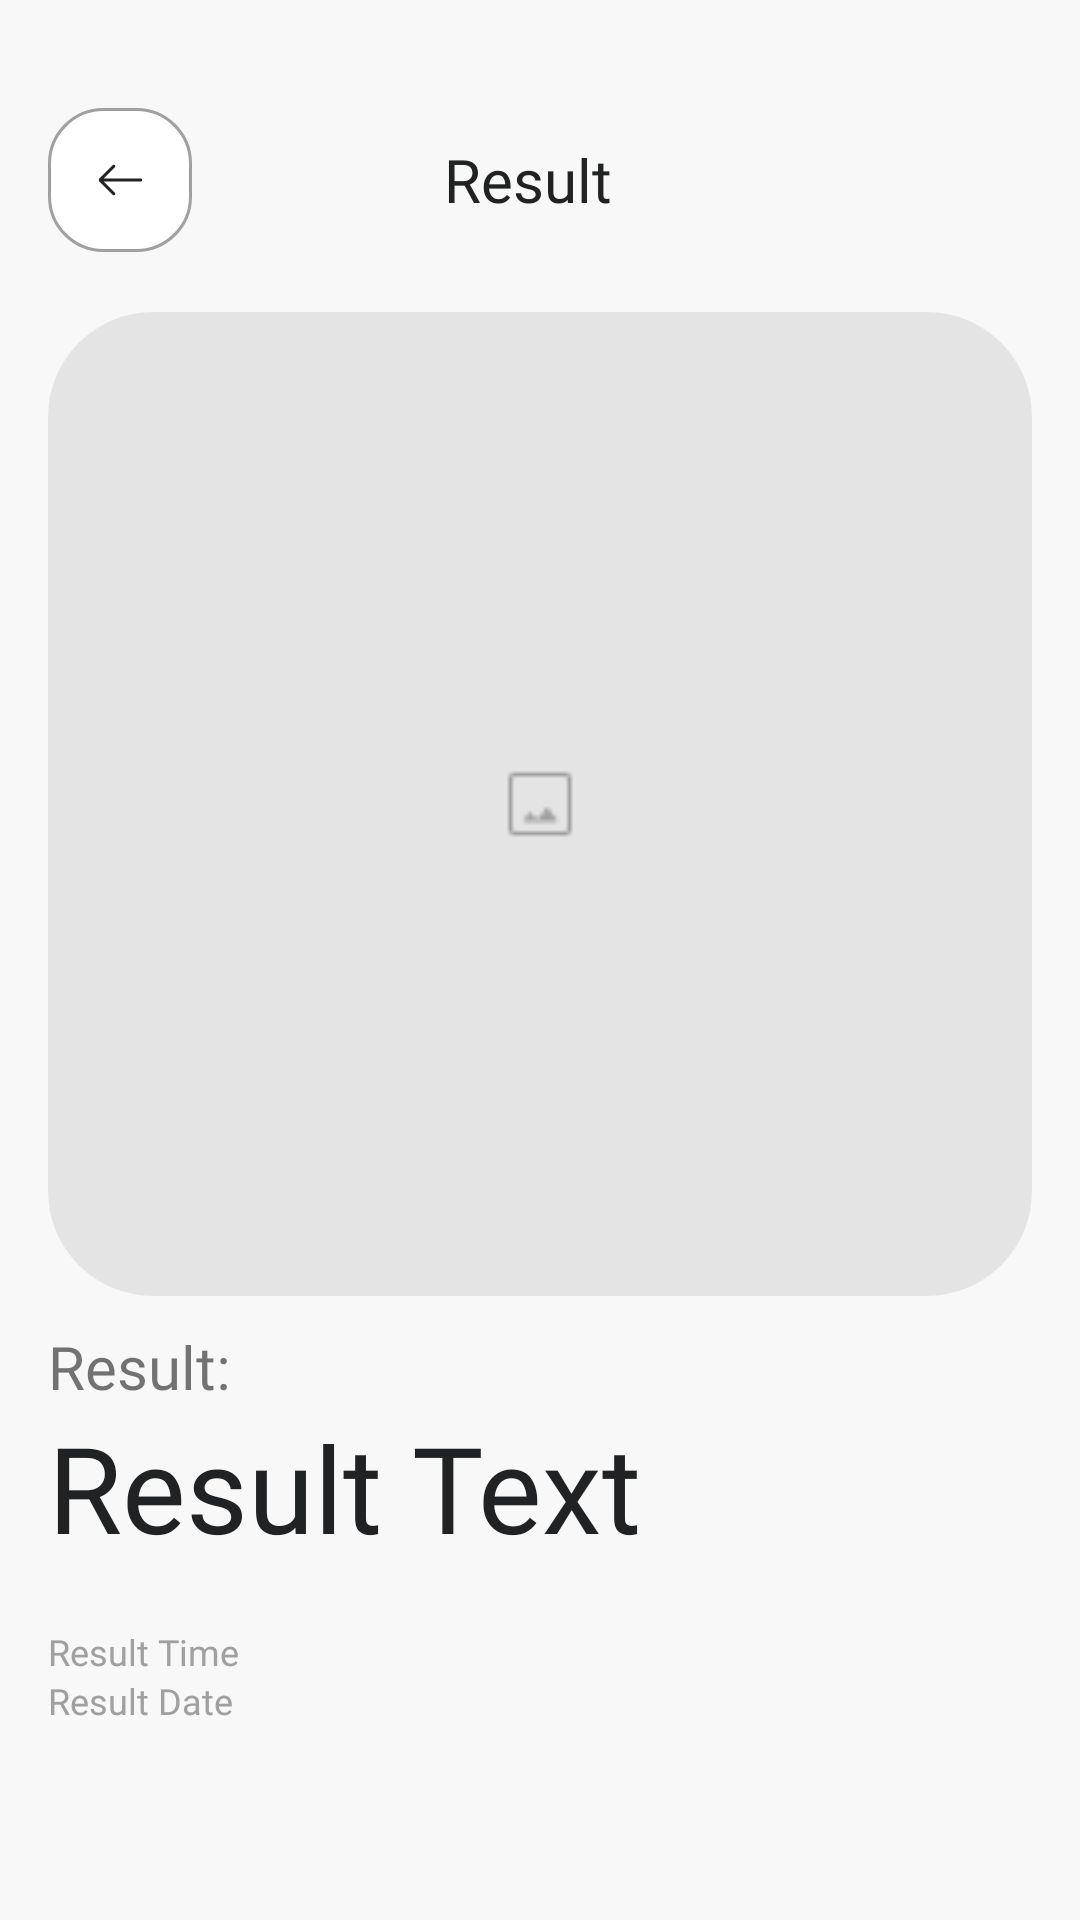

Icons on this 1080px×1920px Android screen, each with its box as (x1, y1, x2, y2):
Back Button: (48, 108, 192, 252)
